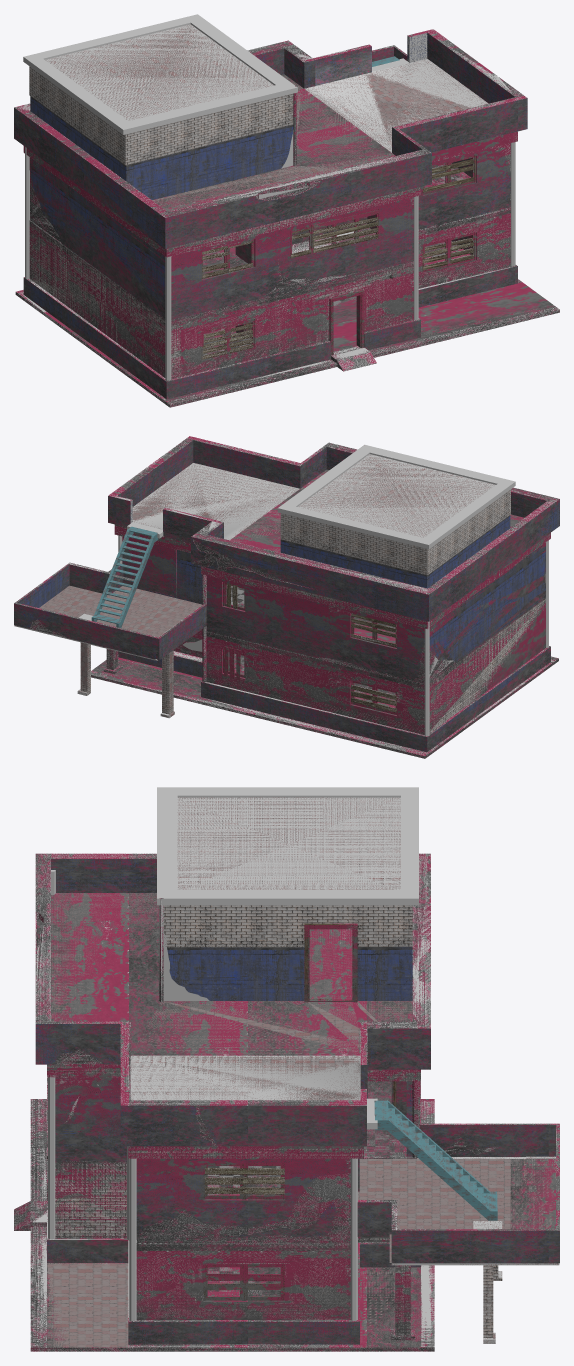
Rendered from build 3.fbx.
3 renders of one model, top to bottom at view 1: azimuth 30°, elevation 25°; view 2: azimuth 150°, elevation 25°; view 3: azimuth 270°, elevation 25°, orthographic. The views are drawn at different scales.
Parts seen in each view (by area): view 1: Group1; view 2: Group1; view 3: Group1.
Boxes of the visible parts, x1=… form: Group1: x1=14, y1=14, x2=559, y2=407; Group1: x1=14, y1=436, x2=559, y2=758; Group1: x1=14, y1=787, x2=559, y2=1351.
Bounding box in the file's own units: 151 × 80.94 × 127.
